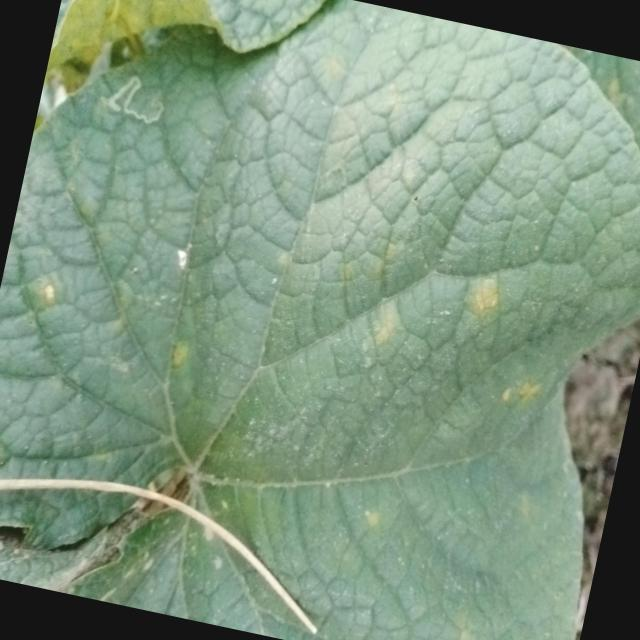cucumber_downy: (0, 34, 640, 636)
